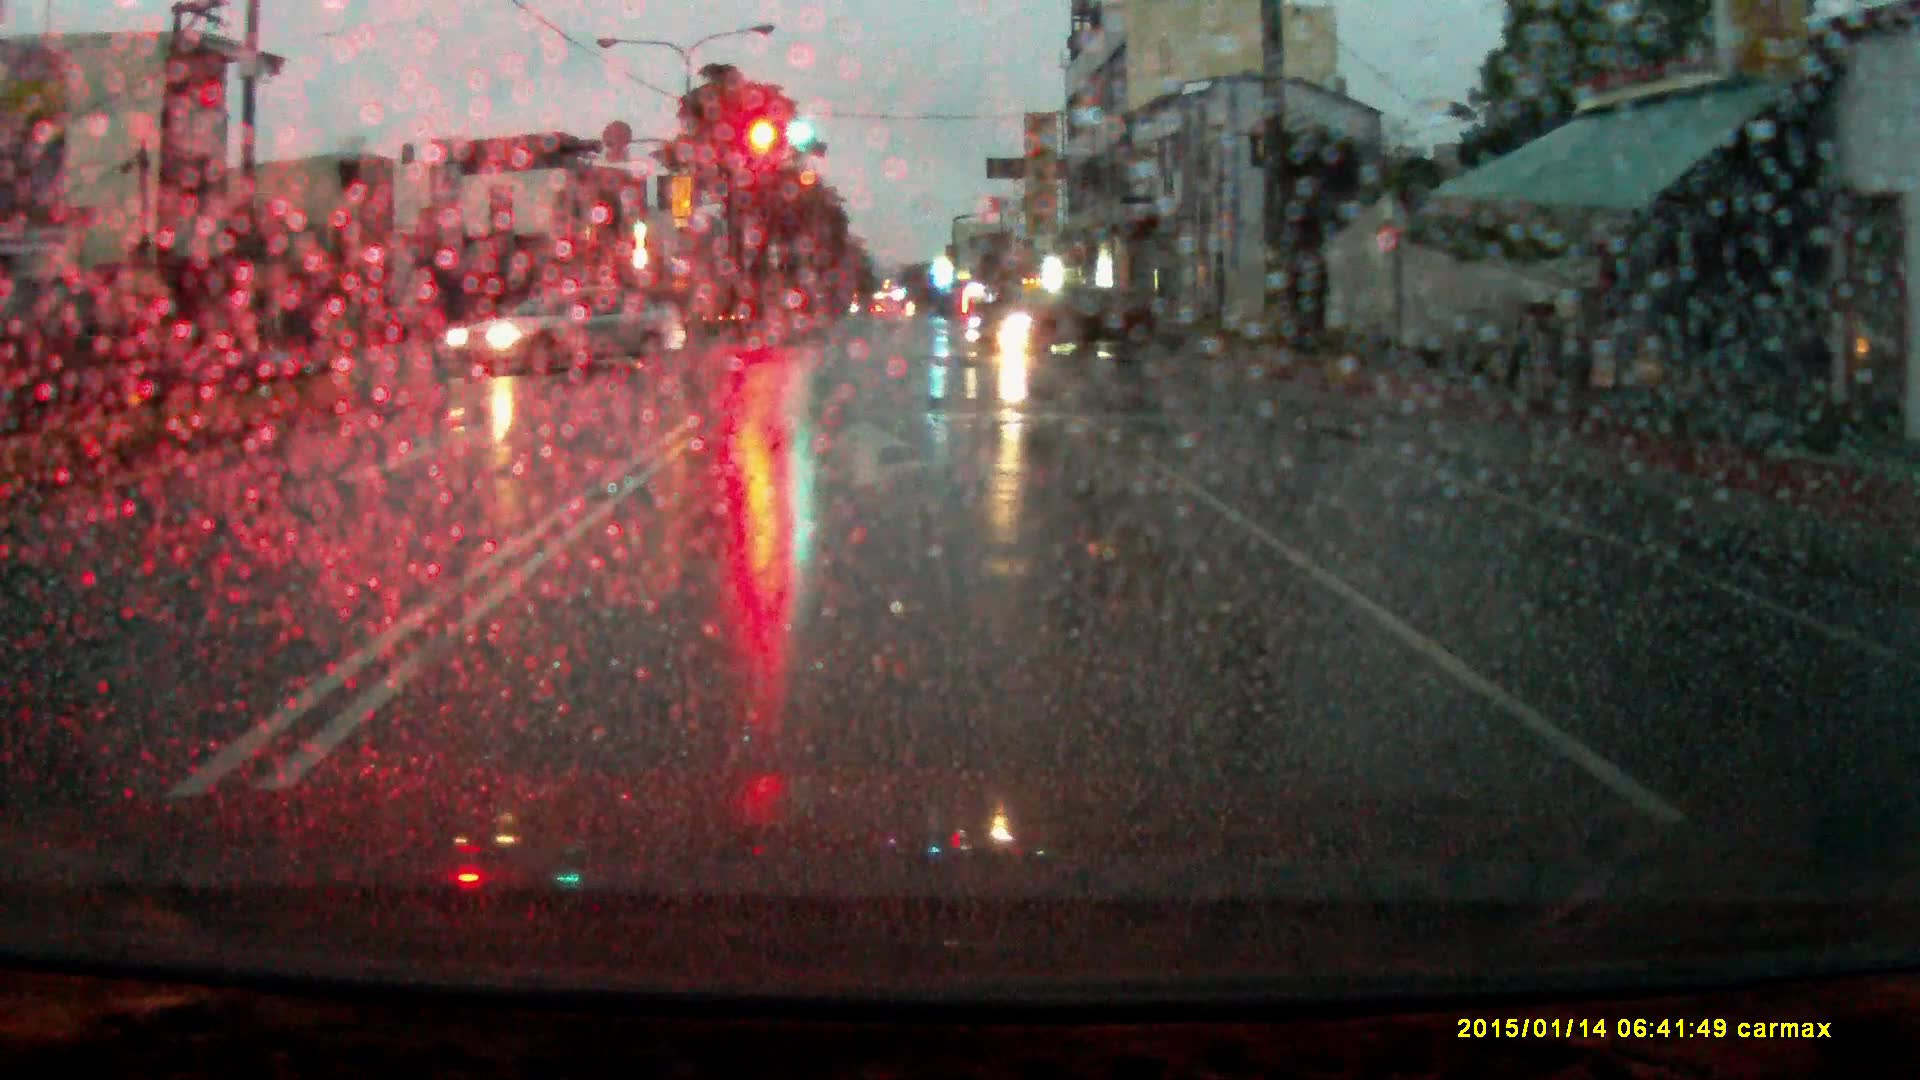vehicle: (448, 287, 690, 381), (969, 291, 1160, 360)
